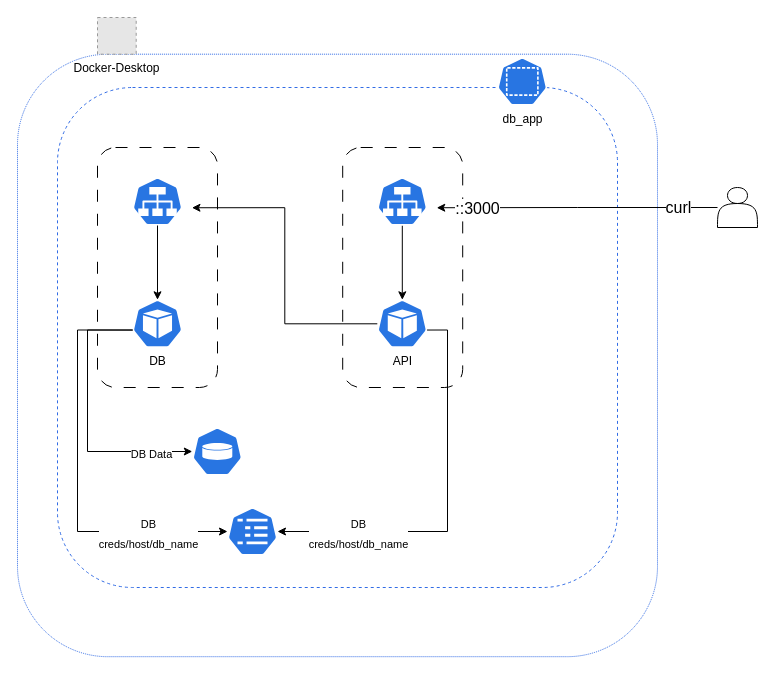
Image size: 775x675. Some labels were removed from this diagram. Grey dashed boxes stand in for pictures. Each missing label, with the box of its shape:
DB CM: (226, 506, 278, 556)
DB PVC: (191, 426, 242, 476)
